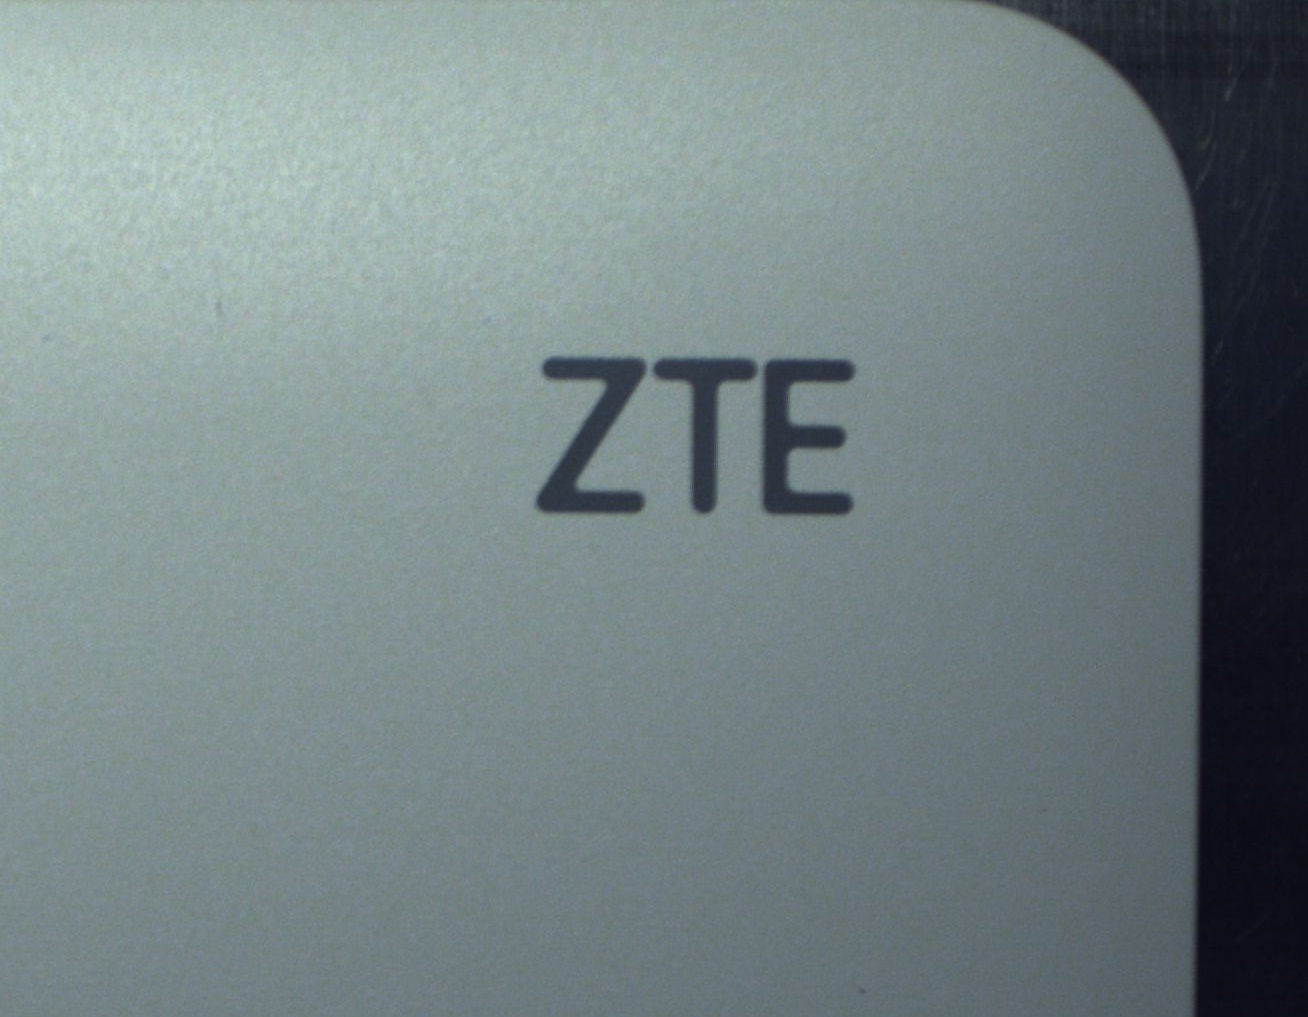AN_ZTE: (513, 346, 873, 523)
